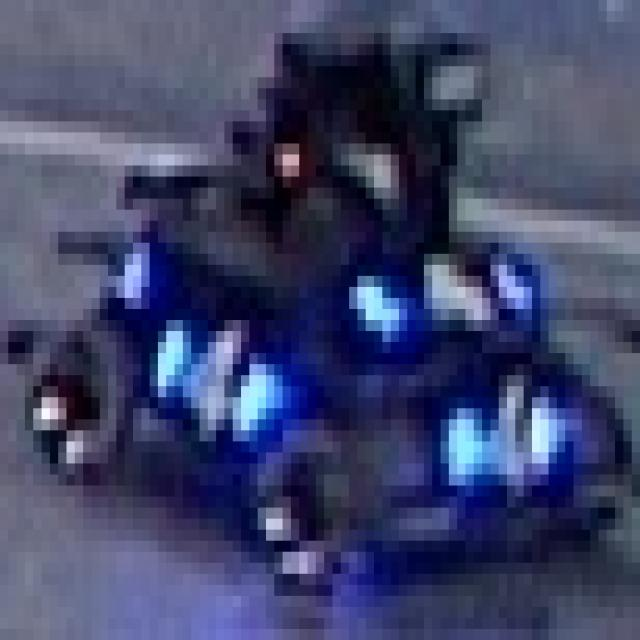B4: (150, 309, 282, 441), (441, 375, 565, 497)
